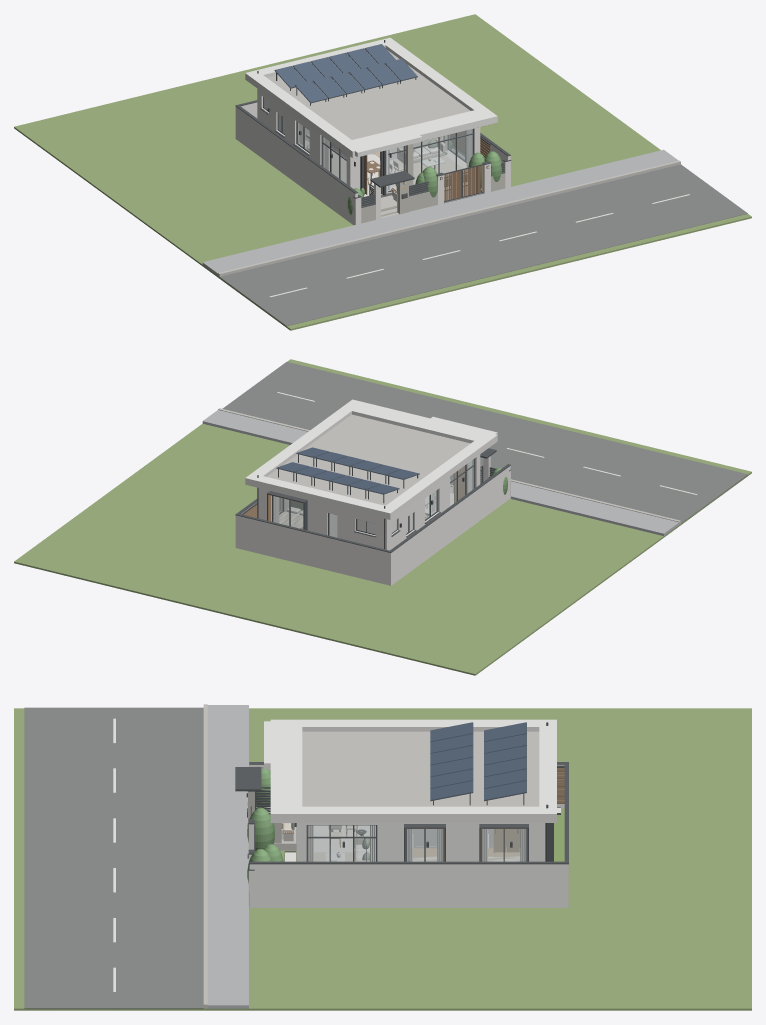
3 renders of one model, top to bottom at view 1: azimuth 30°, elevation 25°; view 2: azimuth 150°, elevation 25°; view 3: azimuth 270°, elevation 25°, orthographic. The views are drawn at different scales.
Parts seen in each view (by area): view 1: world, roof-gravel, roof-overhang, roof-upstand, exterior-porch-01-slab, F0-W001/0; view 2: world, roof-gravel, roof-overhang, roof-upstand, exterior-porch-01-slab, F0-W018/1; view 3: world, roof-gravel, roof-overhang, roof-upstand, exterior-porch-01-slab, F0-W020/1, F0-living/floor, F0-W021/1, F0-W019/0, exterior-gate-canopy.
Part boxes in pixels (<box>): world: <box>14,14,751,330</box>; roof-gravel: <box>267,50,470,139</box>; roof-overhang: <box>245,37,497,157</box>; roof-upstand: <box>257,43,479,142</box>; exterior-porch-01-slab: <box>345,128,422,157</box>; F0-W001/0: <box>314,130,354,188</box>; world: <box>14,359,751,675</box>; roof-gravel: <box>267,414,470,505</box>; roof-overhang: <box>245,399,497,519</box>; roof-upstand: <box>258,408,479,508</box>; exterior-porch-01-slab: <box>421,416,497,441</box>; F0-W018/1: <box>258,489,316,532</box>; world: <box>14,704,751,1010</box>; roof-gravel: <box>302,731,539,806</box>; roof-overhang: <box>270,719,556,822</box>; roof-upstand: <box>296,724,545,808</box>; exterior-porch-01-slab: <box>264,721,296,769</box>; F0-W020/1: <box>393,825,468,861</box>; F0-living/floor: <box>314,825,369,852</box>; F0-W021/1: <box>469,825,539,861</box>; F0-W019/0: <box>302,825,392,861</box>; exterior-gate-canopy: <box>235,767,261,791</box>.
Bounding box in the file's own units: 27.14 × 4.34 × 28.19.
